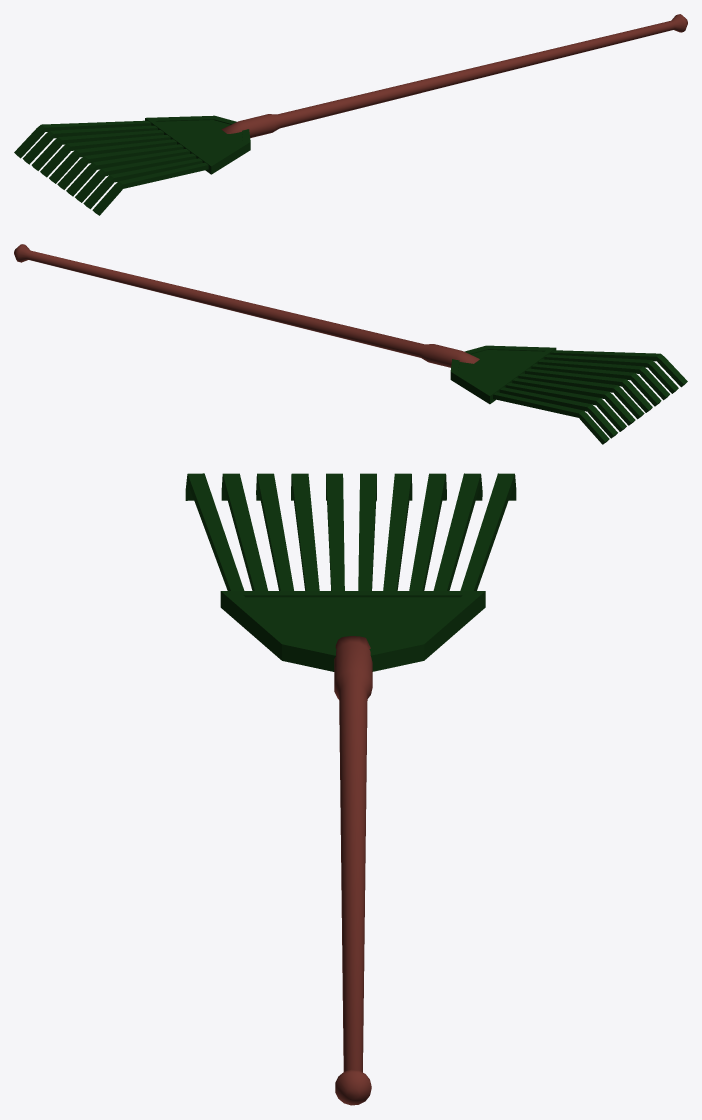
File: Laubhacke.fbx
The picture shows the model from 3 angles, top to bottom: view 1: azimuth 30°, elevation 25°; view 2: azimuth 150°, elevation 25°; view 3: azimuth 270°, elevation 25°; orthographic projection. The views are drawn at different scales.
Visible parts, largest first — view 1: Cube; view 2: Cube; view 3: Cube.
Part boxes in pixels (bbox=[...]): Cube: bbox=[14, 14, 687, 215]; Cube: bbox=[14, 244, 687, 444]; Cube: bbox=[185, 473, 516, 1105].
Bounding box in the file's own units: 1431 × 54.73 × 325.
